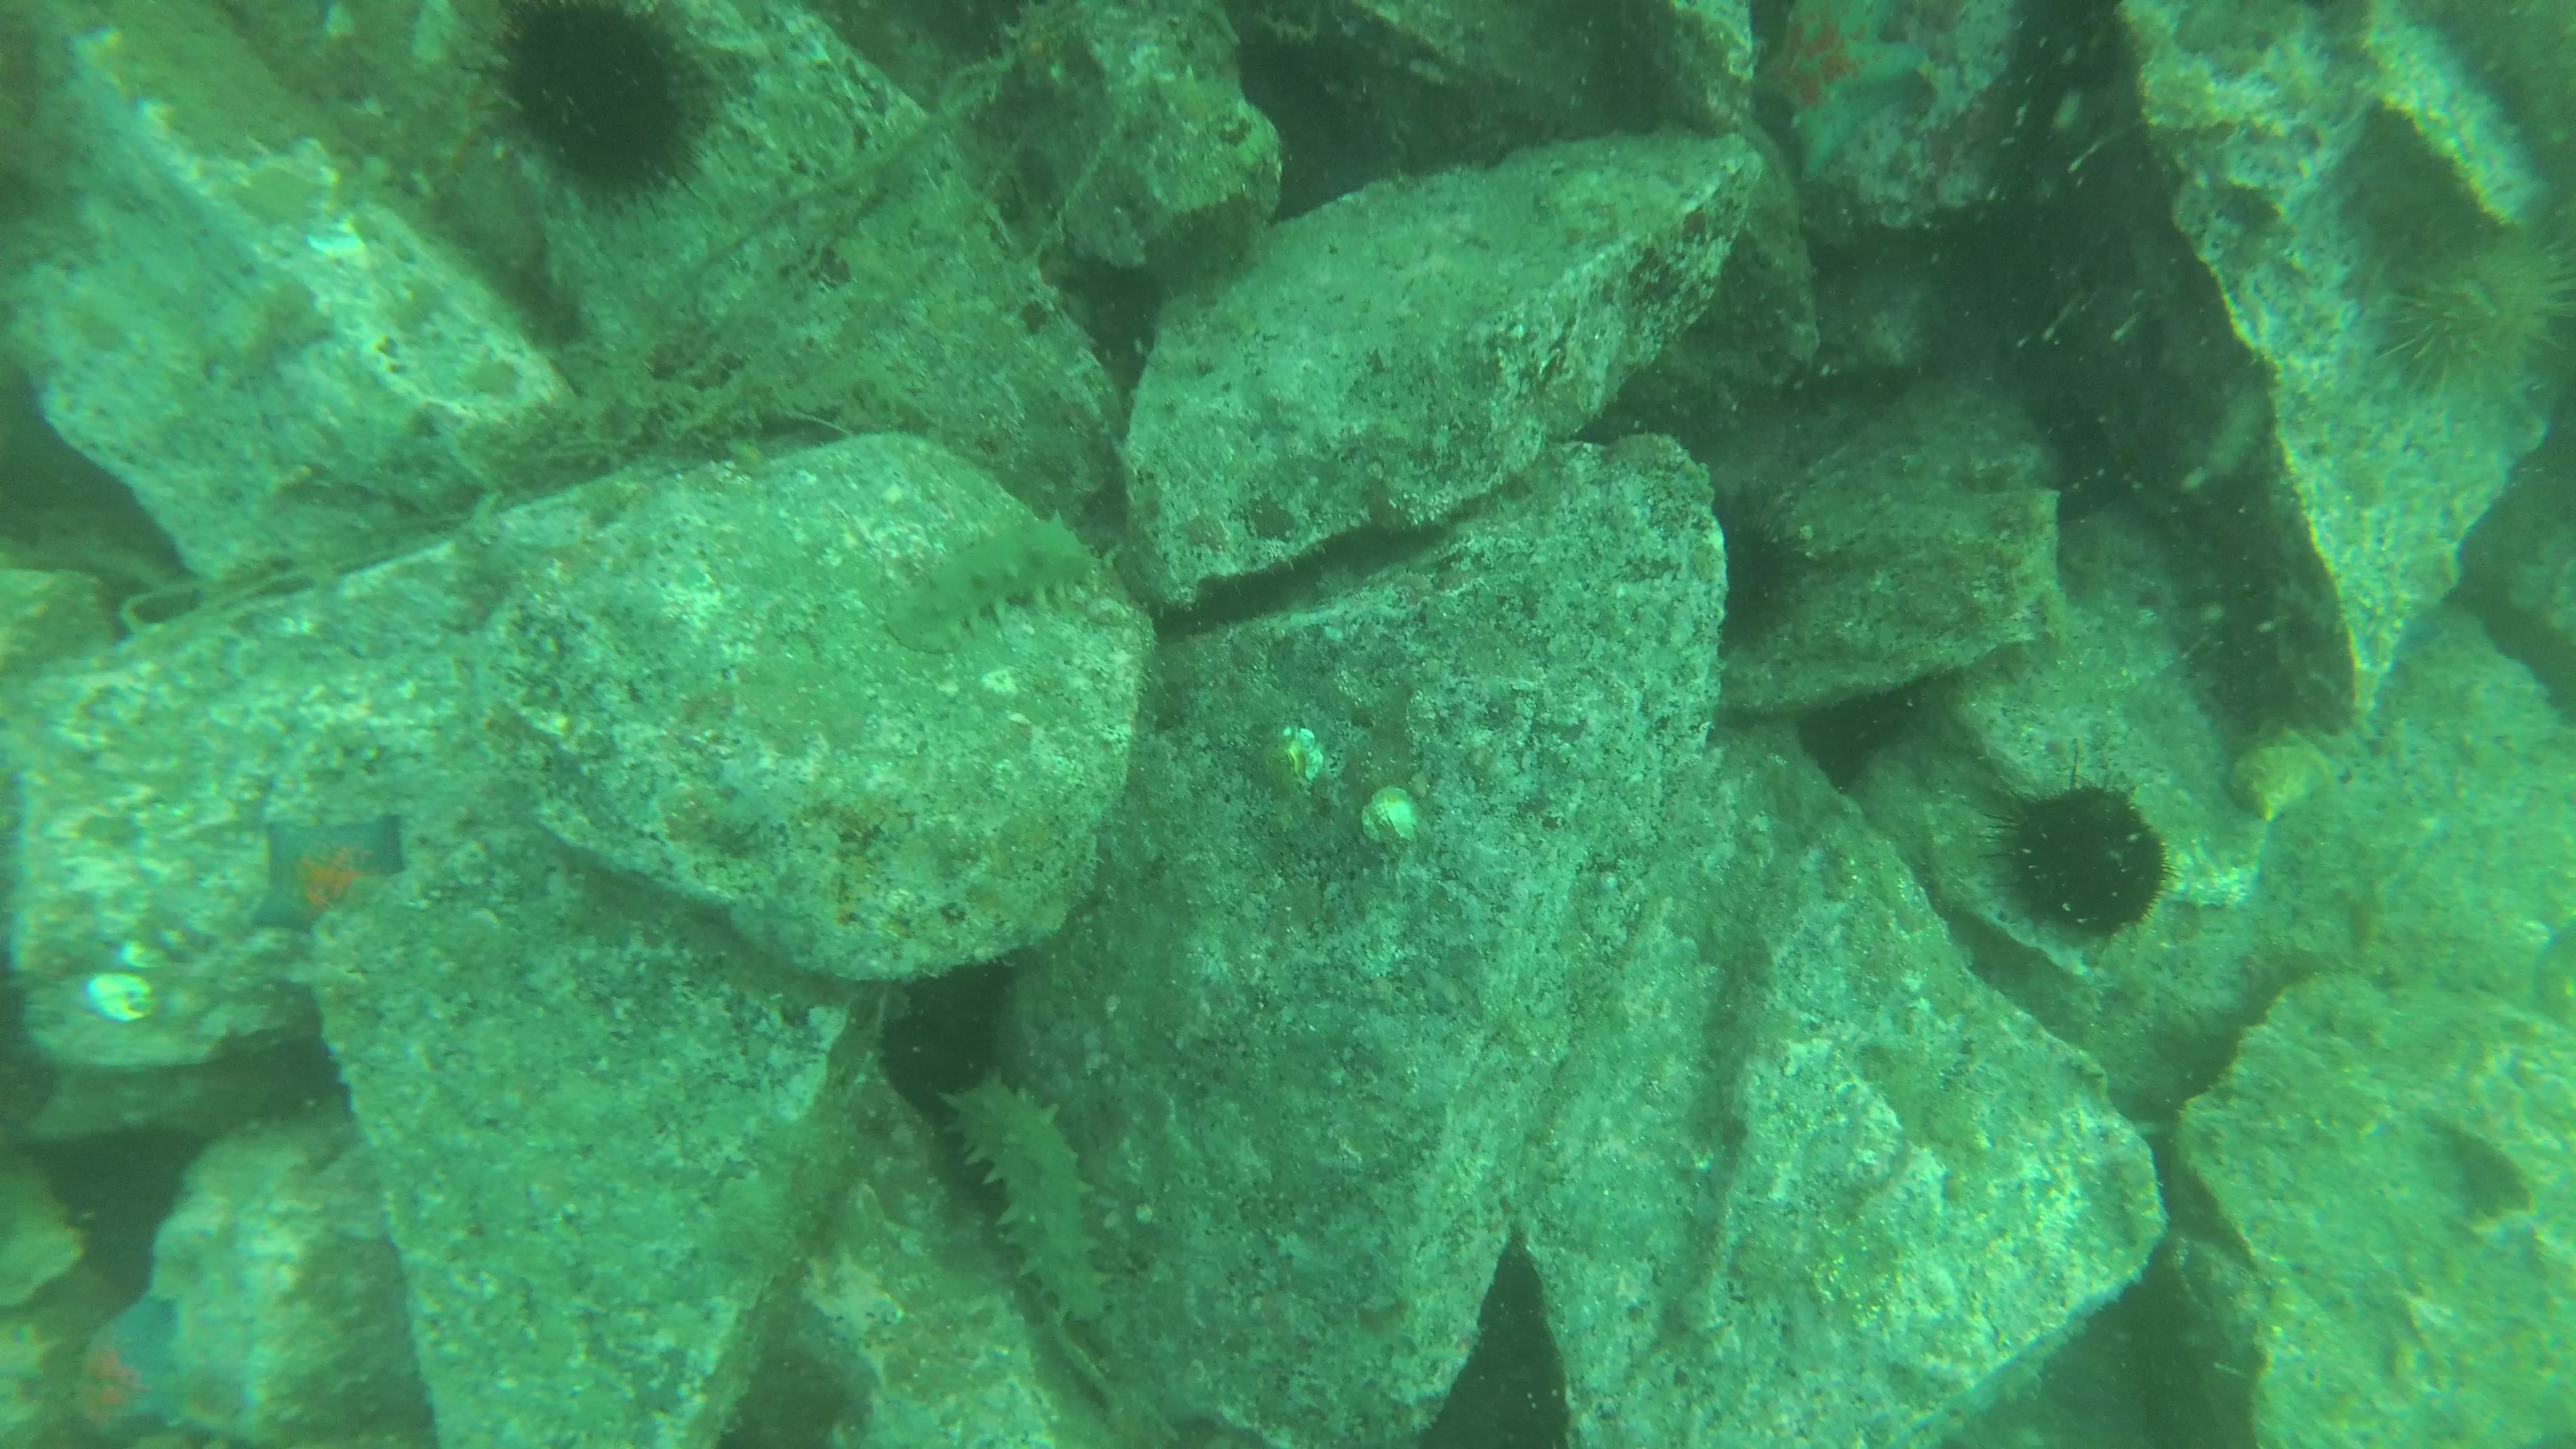echinus: (476, 2, 743, 219), (2365, 196, 2576, 409), (1987, 768, 2169, 955), (1713, 469, 1821, 648)
holothurian: (932, 1063, 1118, 1327), (895, 515, 1113, 653)
starfish: (1752, 0, 1923, 175), (228, 807, 412, 941), (64, 1292, 193, 1449)
